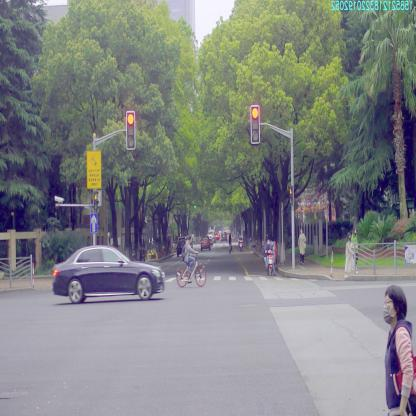traffic-light: (252, 105, 260, 143), (127, 112, 135, 148)
